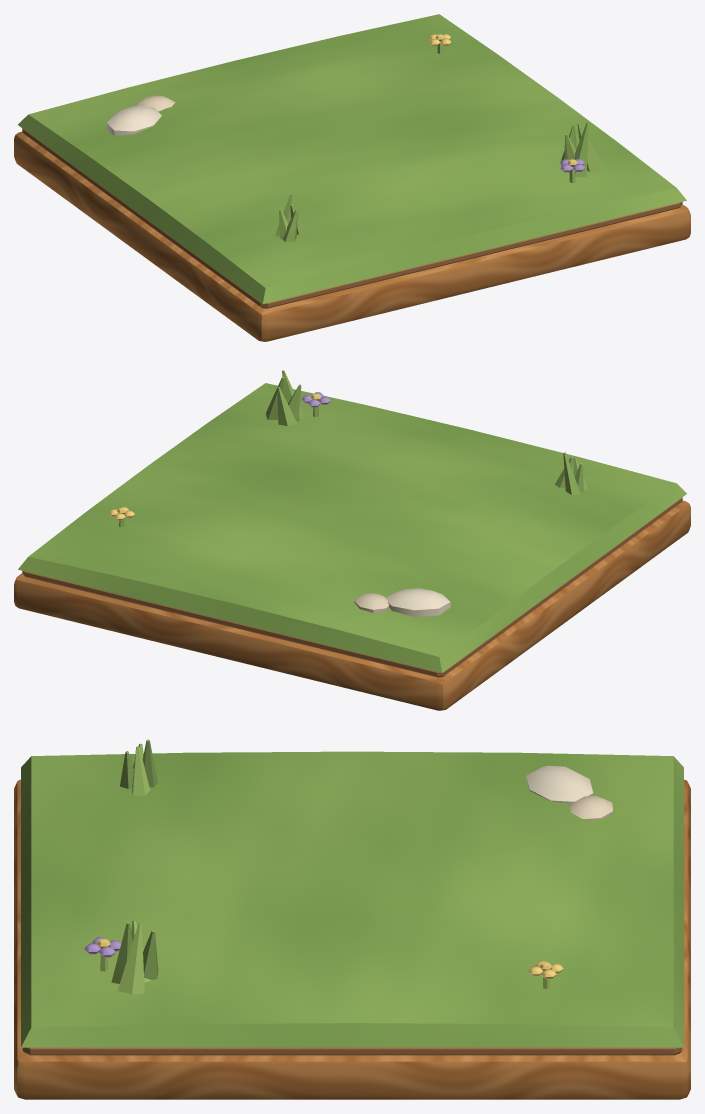
The model's file is tuile_herbe_b.glb.
3 renders of one model, top to bottom at view 1: azimuth 30°, elevation 25°; view 2: azimuth 150°, elevation 25°; view 3: azimuth 270°, elevation 25°, orthographic. The views are drawn at different scales.
Parts seen in each view (by area): view 1: tuile_herbe_b; view 2: tuile_herbe_b; view 3: tuile_herbe_b.
Part boxes in pixels (x1,y1,x2,y2): tuile_herbe_b: [14, 14, 690, 341]; tuile_herbe_b: [14, 370, 690, 710]; tuile_herbe_b: [14, 739, 690, 1099].
Bounding box in the file's own units: 1.96 × 0.4439 × 1.96.
9 materials, 4 textured.
